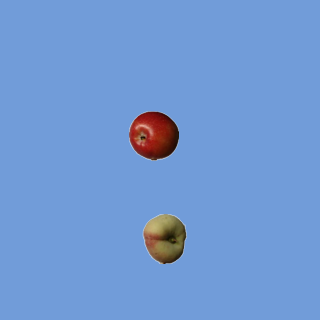Apple Braeburn: (128, 110, 178, 160)
Peach Flat: (139, 213, 189, 263)
